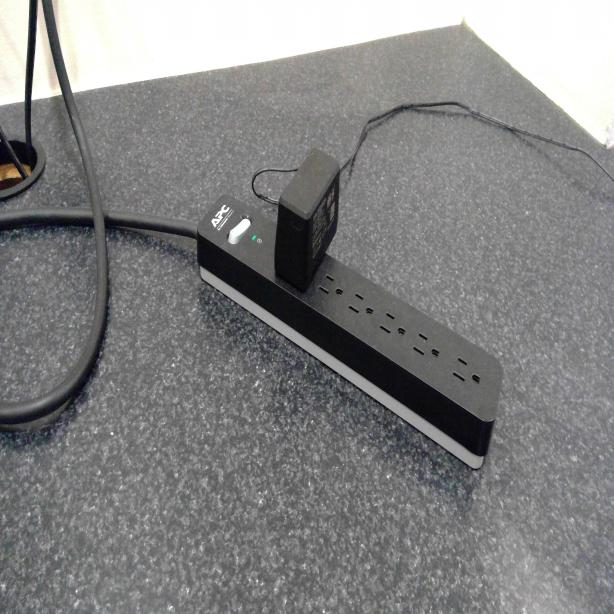typeb: (447, 344, 483, 396), (344, 285, 376, 331), (412, 322, 442, 371), (376, 301, 406, 348), (315, 267, 344, 308)
